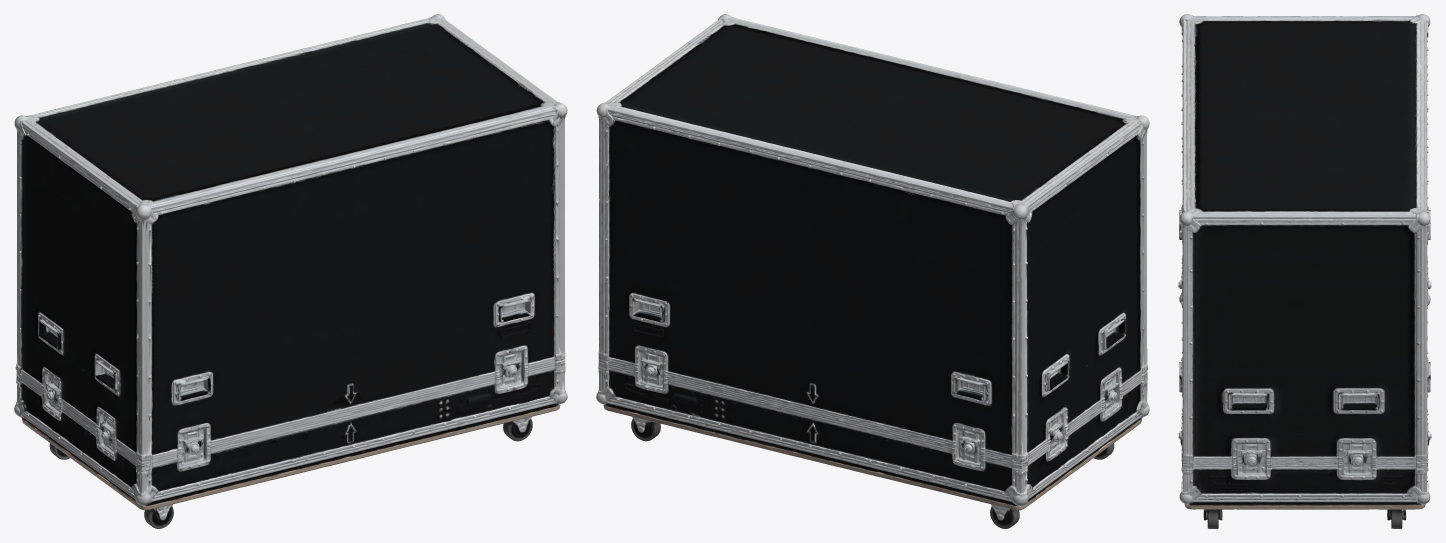
Rendered from simbox-closed.glb.
The picture shows the model from 3 angles, left to right: view 1: azimuth 30°, elevation 25°; view 2: azimuth 150°, elevation 25°; view 3: azimuth 270°, elevation 25°; orthographic projection. The views are drawn at different scales.
Visible parts, largest first — view 1: tripo_node_d36c3836; view 2: tripo_node_d36c3836; view 3: tripo_node_d36c3836.
Boxes of the visible parts, x1,y1,x2,y2 form: tripo_node_d36c3836: (14,14,567,528); tripo_node_d36c3836: (596,14,1149,528); tripo_node_d36c3836: (1178,14,1431,528).
Size of the model in its own units: 0.9795 by 0.7341 by 0.5116.
1 material, 1 textured.
